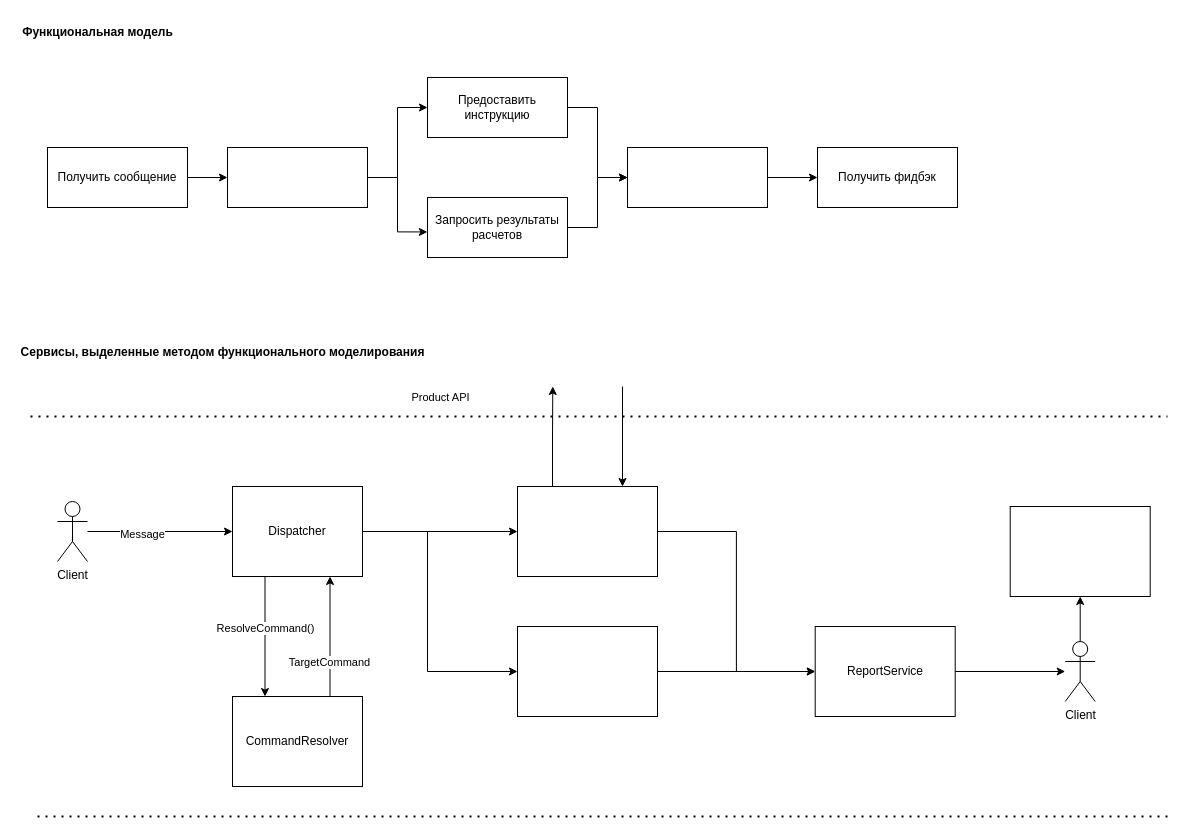
Some shapes in this 1186 by 835 pixel diagram are drawn without their labels. The shapes that lost their labels are listed below. From the top down, each one's centre as x and y in pixels, then its label:
point (297, 177): Определить сервис, который ответит на вопрос
point (697, 177): Ответить в чат
point (587, 531): DataService
point (1079, 551): FeedbackService
point (587, 671): InstructionService
